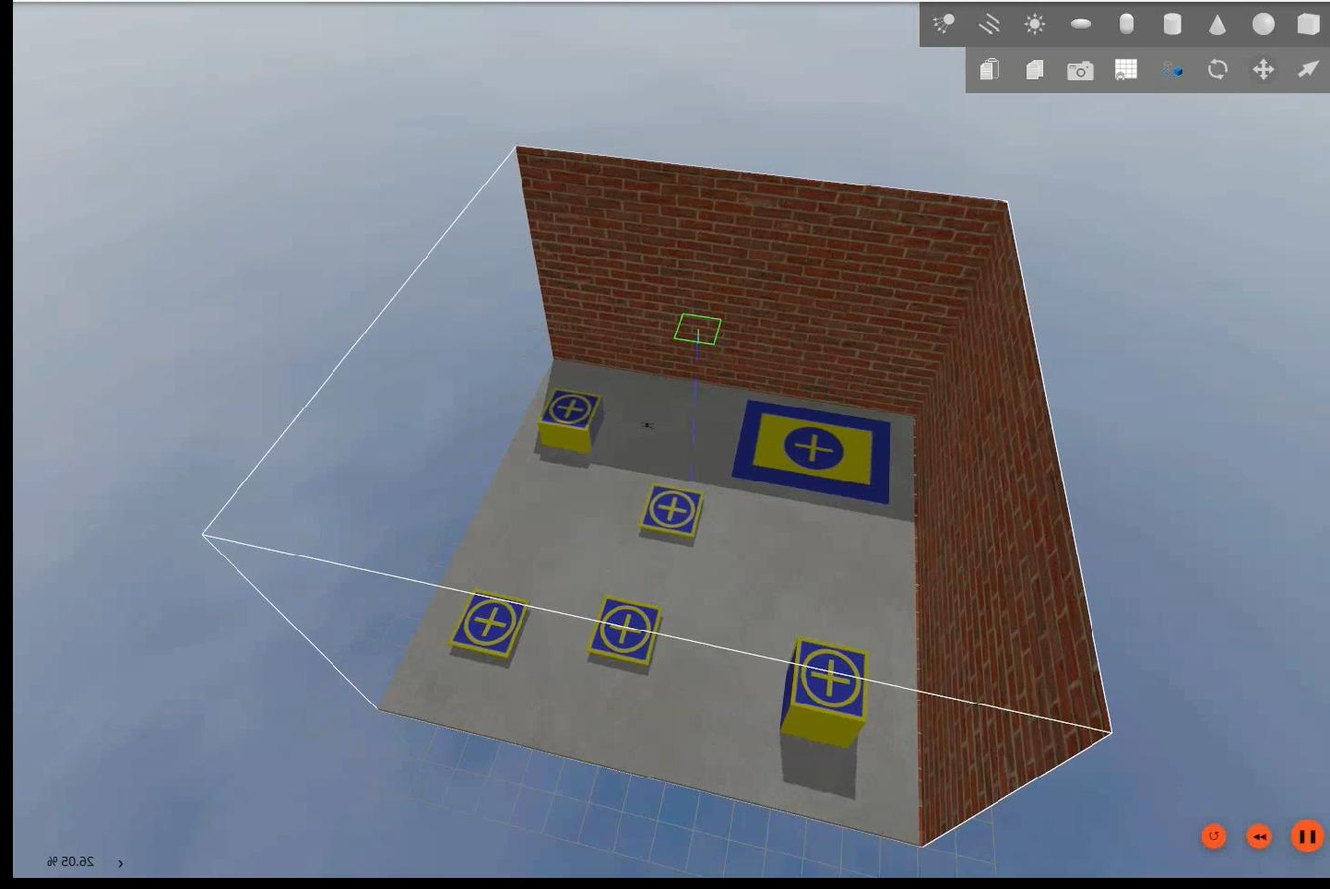large_base: (730, 398, 888, 505)
small_base: (786, 641, 866, 724), (444, 593, 528, 663), (584, 598, 659, 671), (636, 483, 704, 545), (531, 389, 600, 433)
